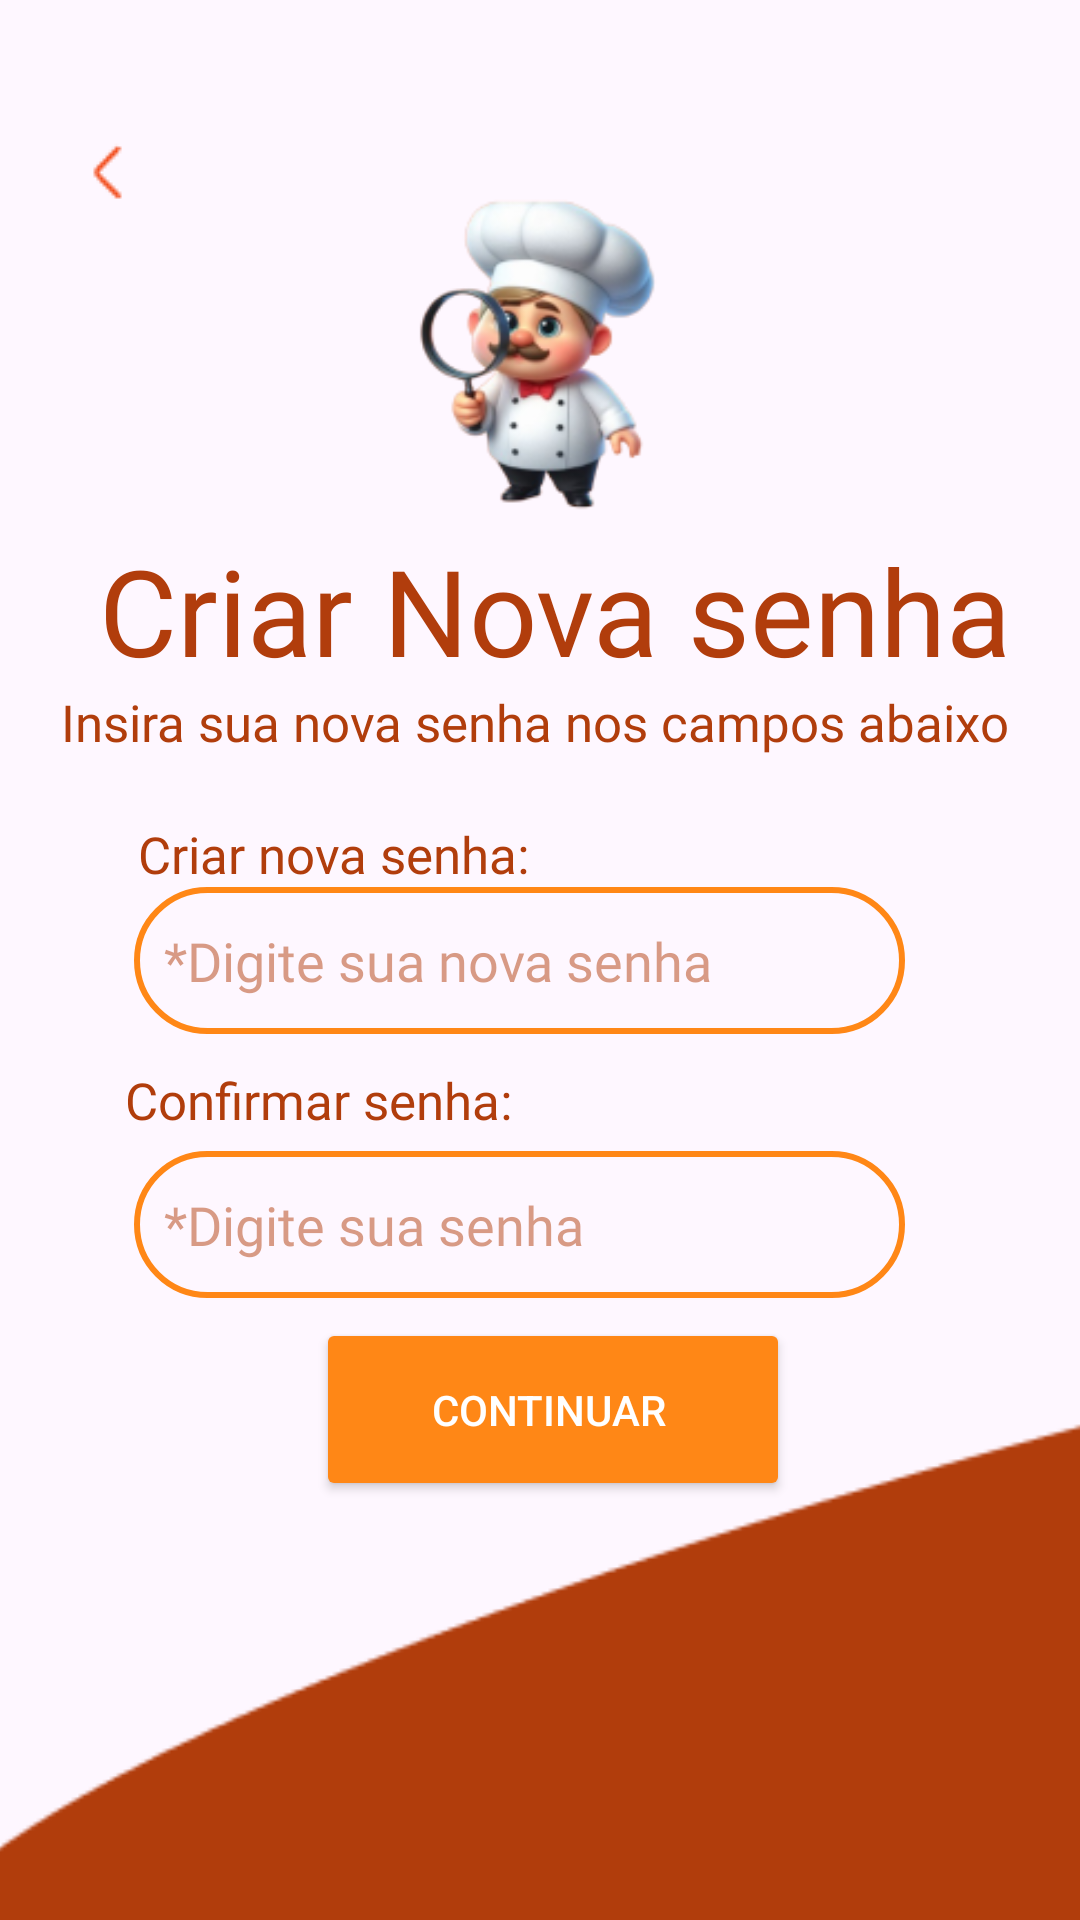

Icons on this 1080x1920 Android screen, each with its box as detection(x1, y1, x2, y2):
chefinho: detection(420, 202, 654, 509)
setadesaida: detection(93, 146, 122, 199)
